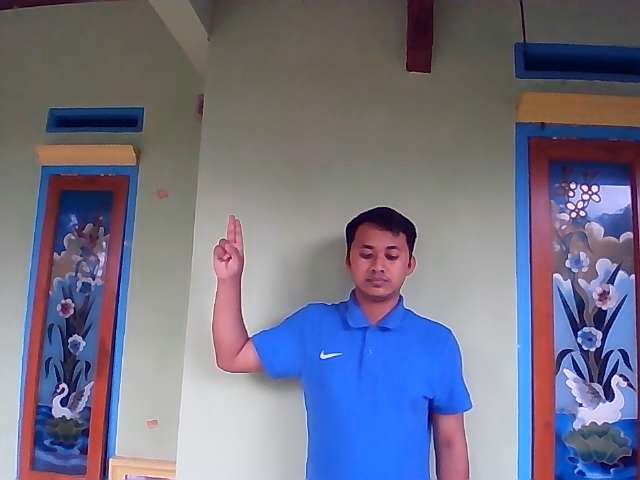U: (212, 213, 245, 278)
